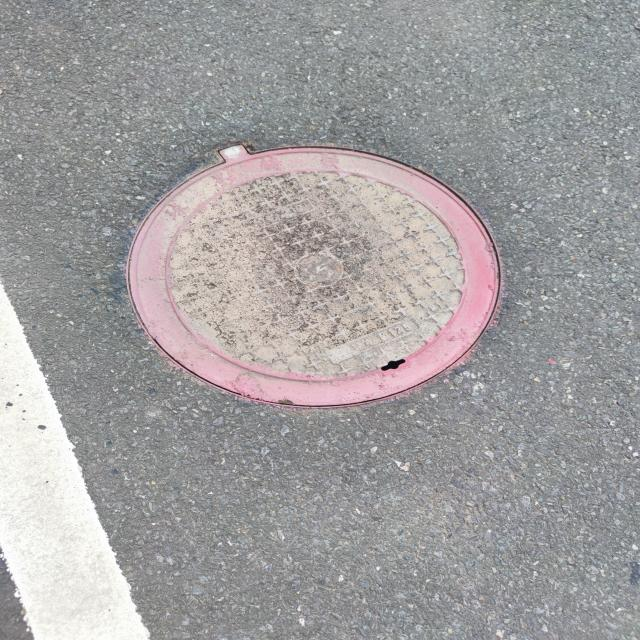Good: (123, 142, 508, 412)
